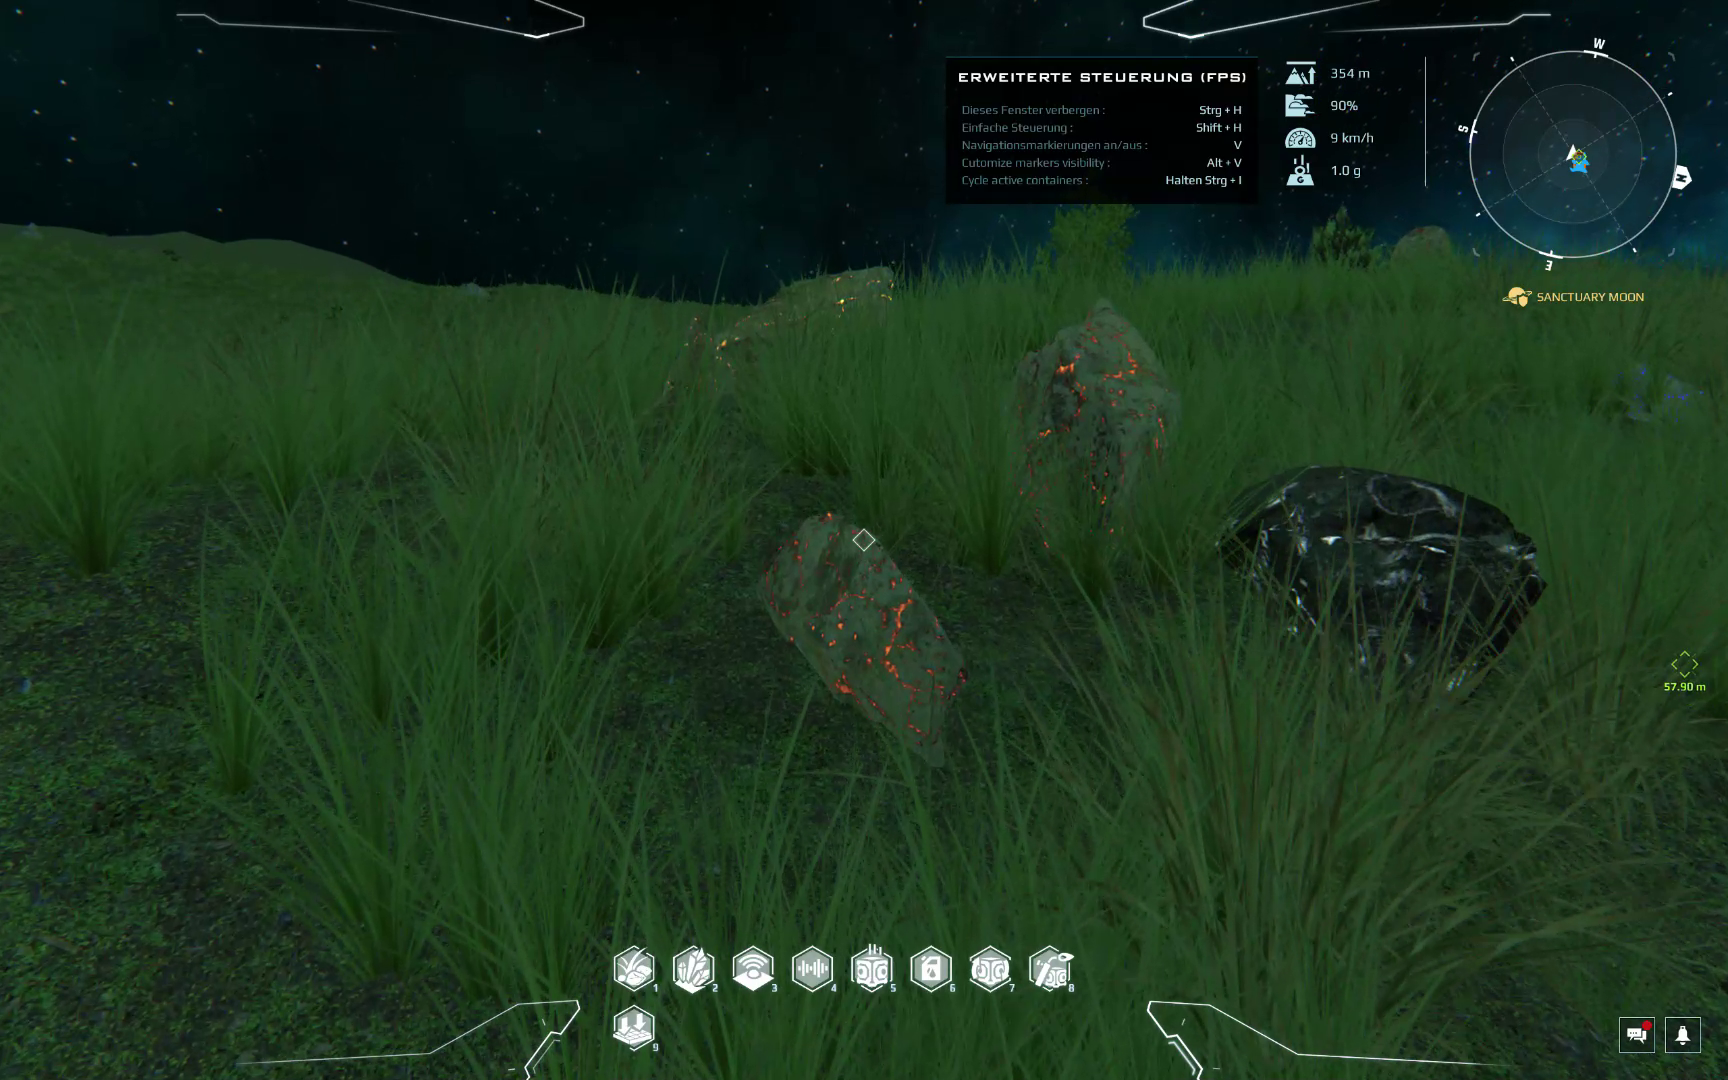Ore: (1217, 455, 1545, 705), (755, 511, 977, 753), (1003, 299, 1173, 552), (722, 263, 897, 394), (627, 296, 703, 449)
